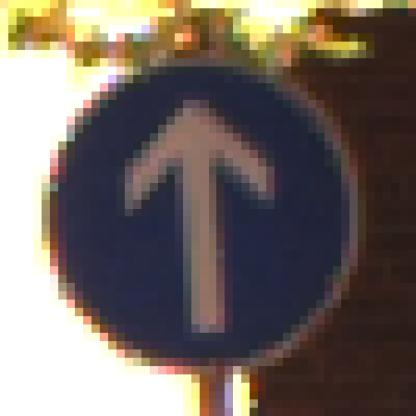AheadOnly: (43, 43, 376, 376)
